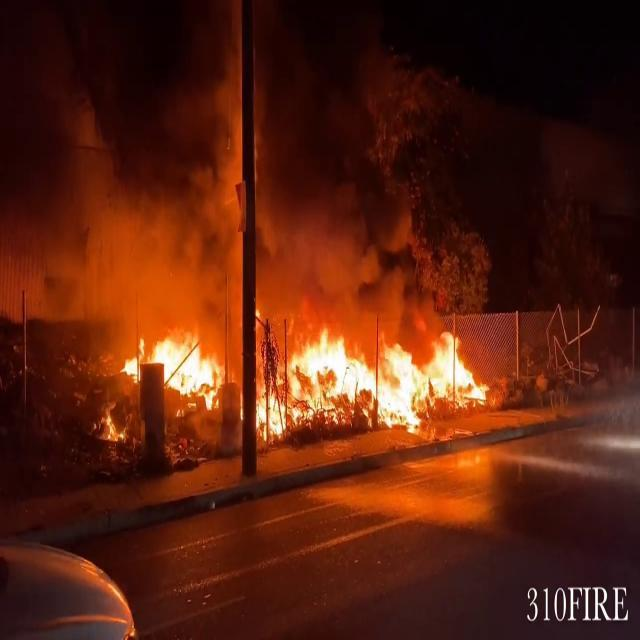Fire: (110, 315, 487, 449)
Smoke: (0, 0, 437, 327)
